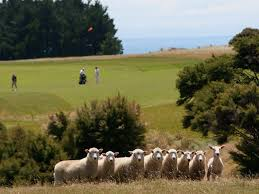sheep: (53, 146, 102, 185), (116, 146, 146, 184), (204, 142, 228, 181), (144, 145, 163, 183), (99, 148, 117, 183), (163, 146, 179, 180), (190, 147, 206, 180), (178, 147, 192, 182)
